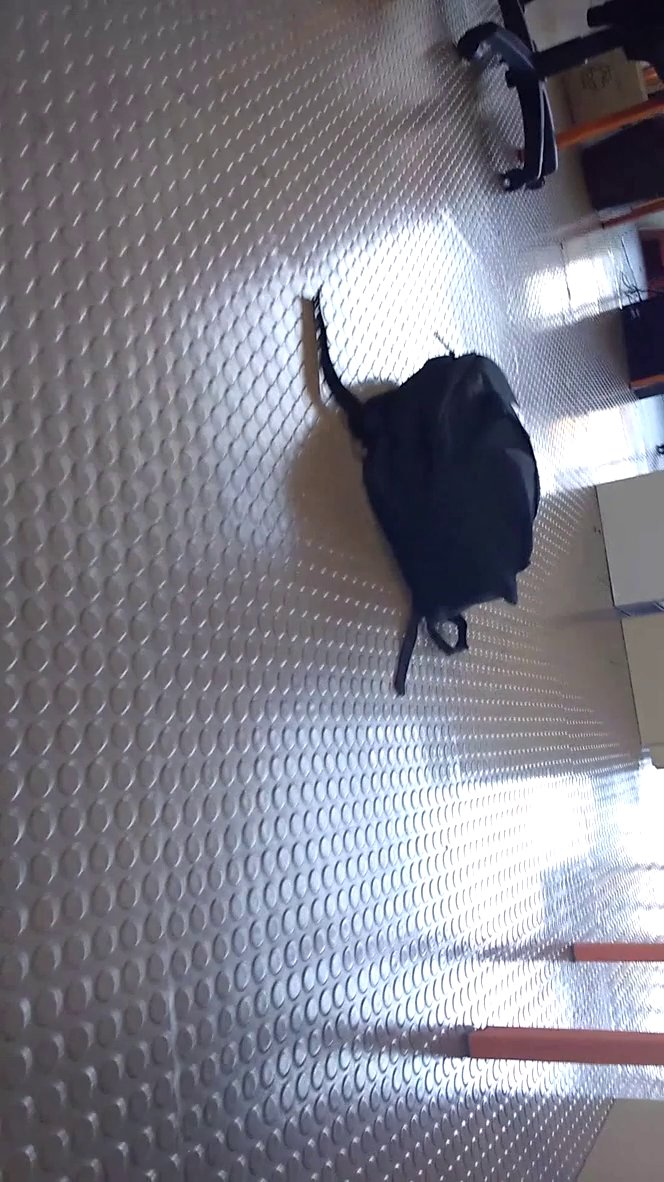bag: (303, 281, 554, 707)
